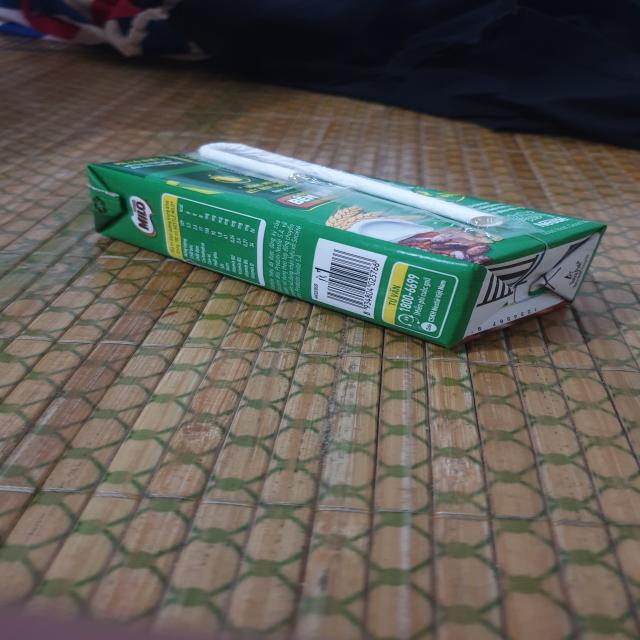Milo: (88, 141, 611, 350)
